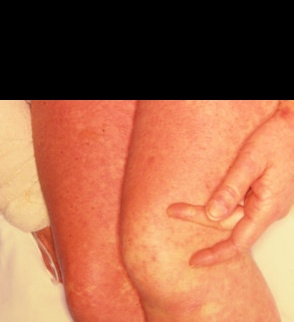SJS-TEN: (23, 99, 294, 322)
